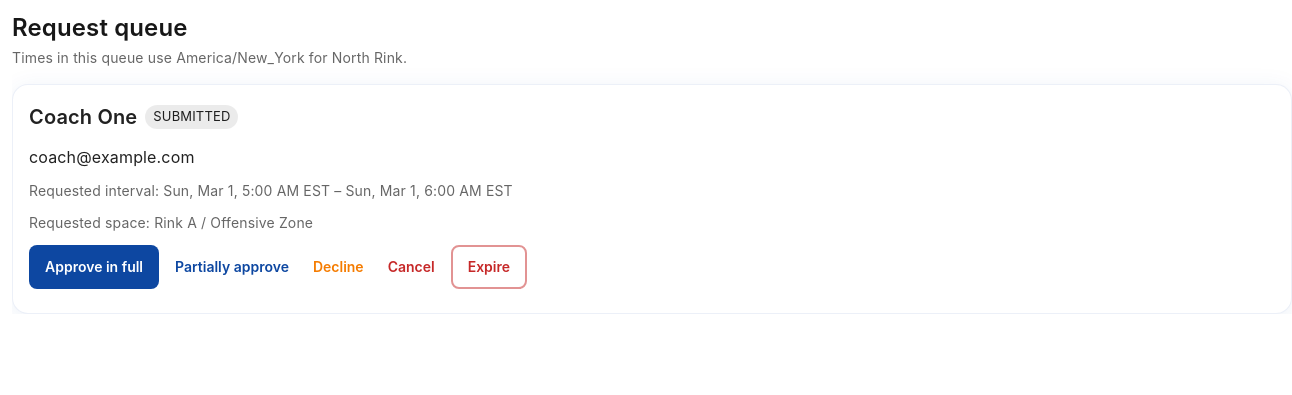
Test: IceTimeRequestQueue › renders server validation failures returned by decideIceTimeRequest
Click the button "Approve in full" at (94, 267), box [29,245,159,289]
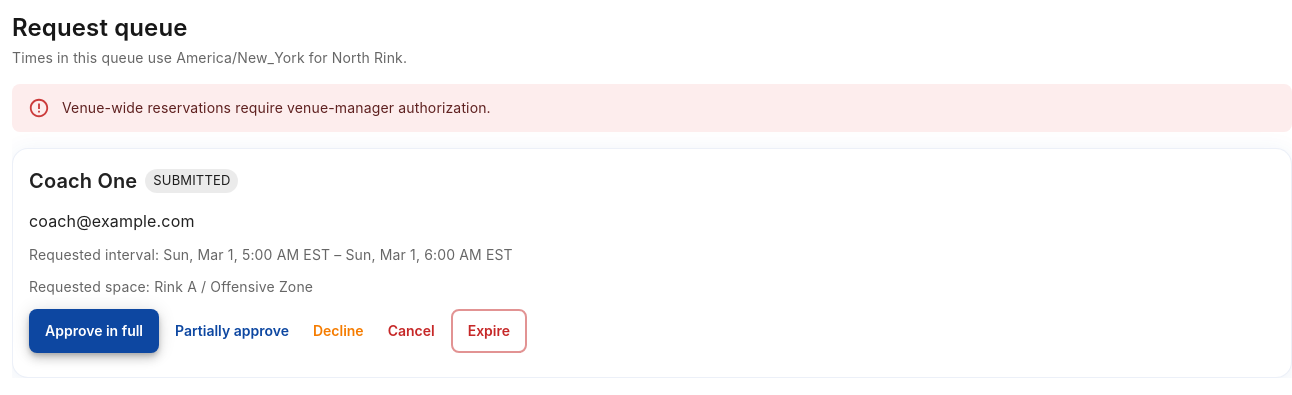
Expected: the text "Venue-wide reservations require venue-manager authorization." is shown, [62,99,491,116]
